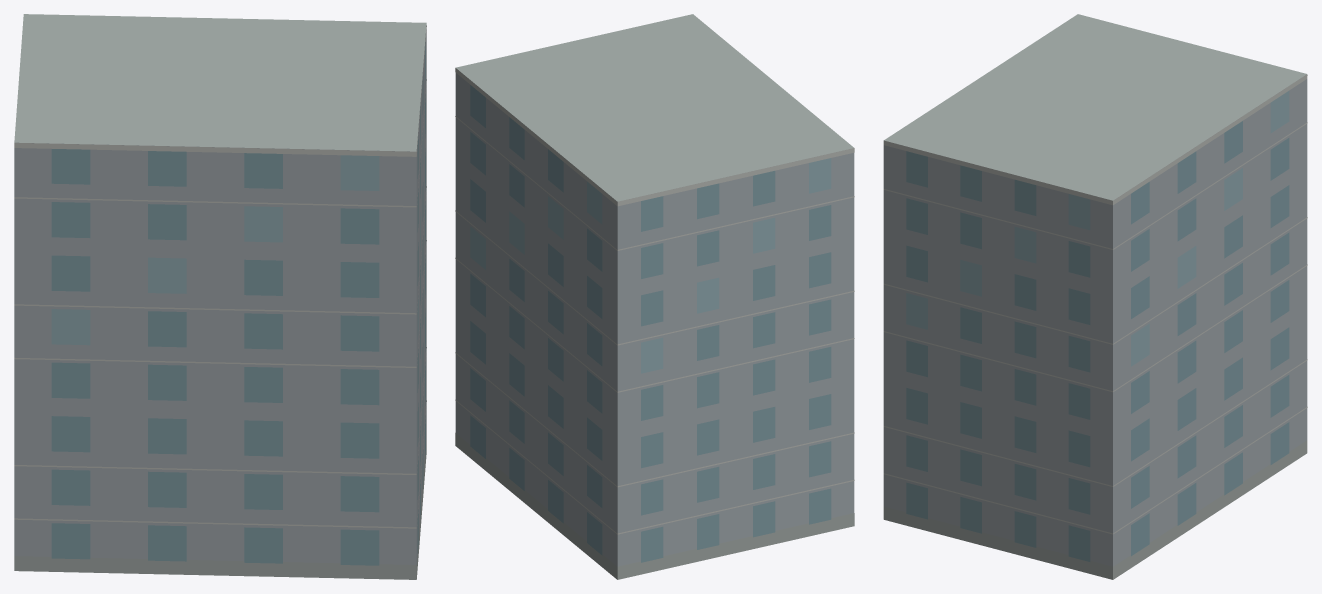
Rendered from survey-upis-32749564.glb.
3 renders of one model, left to right at view 1: azimuth 30°, elevation 25°; view 2: azimuth 150°, elevation 25°; view 3: azimuth 270°, elevation 25°, orthographic. The views are drawn at different scales.
Visible parts, largest first — view 1: survey-upis-32749564.tmp; view 2: survey-upis-32749564.tmp; view 3: survey-upis-32749564.tmp.
Boxes of the visible parts, left/top/right/bottom form: survey-upis-32749564.tmp: left=14, top=14, right=426, bottom=579; survey-upis-32749564.tmp: left=455, top=14, right=854, bottom=579; survey-upis-32749564.tmp: left=883, top=14, right=1307, bottom=579.
Size of the model in its own units: 20.82 by 19.7 by 19.97.
